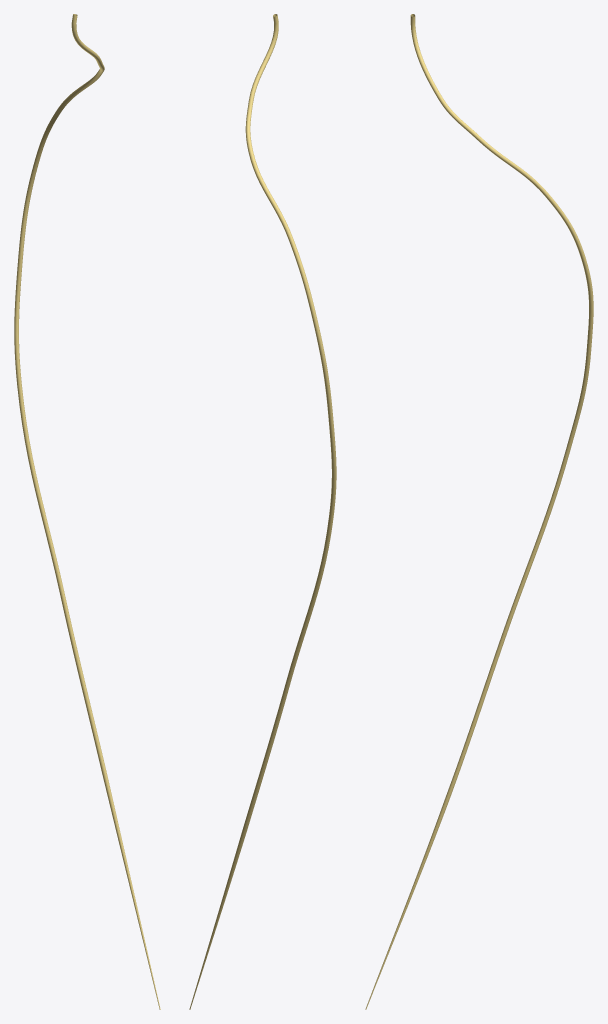
3 renders of one model, left to right at view 1: azimuth 30°, elevation 25°; view 2: azimuth 210°, elevation 25°; view 3: azimuth 270°, elevation 25°, orthographic. The views are drawn at different scales.
Visible parts, largest first — view 1: ZA_01ffcba3ec4970af; view 2: ZA_01ffcba3ec4970af; view 3: ZA_01ffcba3ec4970af.
Boxes of the visible parts, x1,y1,x2,y2 form: ZA_01ffcba3ec4970af: [14, 14, 160, 1009]; ZA_01ffcba3ec4970af: [189, 14, 336, 1009]; ZA_01ffcba3ec4970af: [365, 14, 593, 1009].
Bounding box in the file's own units: 0.0158 × 0.2309 × 0.0495.
